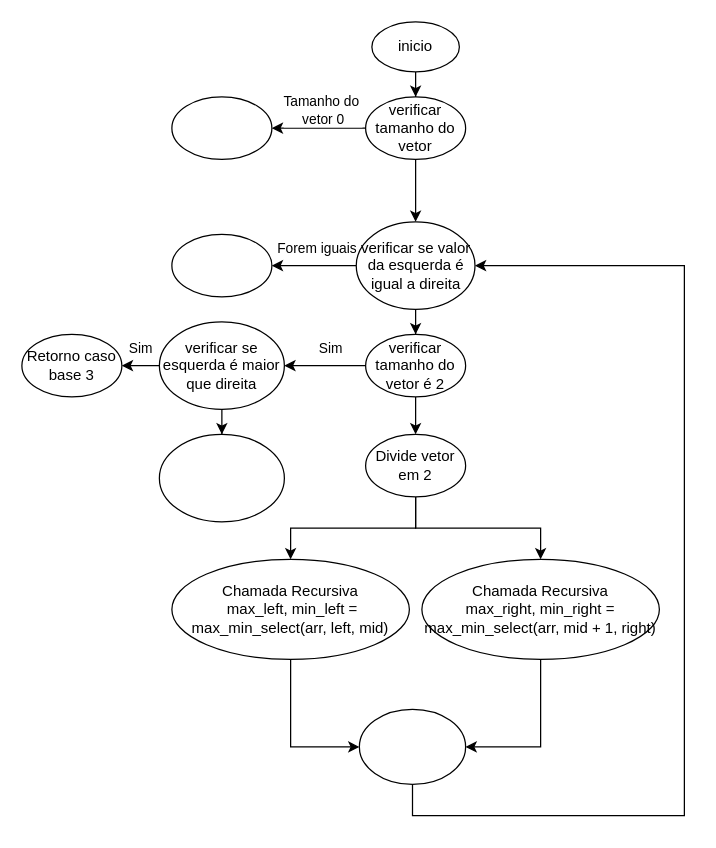
Some shapes in this 716 by 848 pixel diagram are drawn without their labels. The centre of each missing label's shape, as x and y in pixels:
"inverte a ordem dos números e retorna o caso base 3" goes at [221,477].
"Retorno Caso base 1" goes at [221,127].
"Retorno caso base 2" goes at [221,265].
"Retorno dos valores combinados" goes at [412,746].
